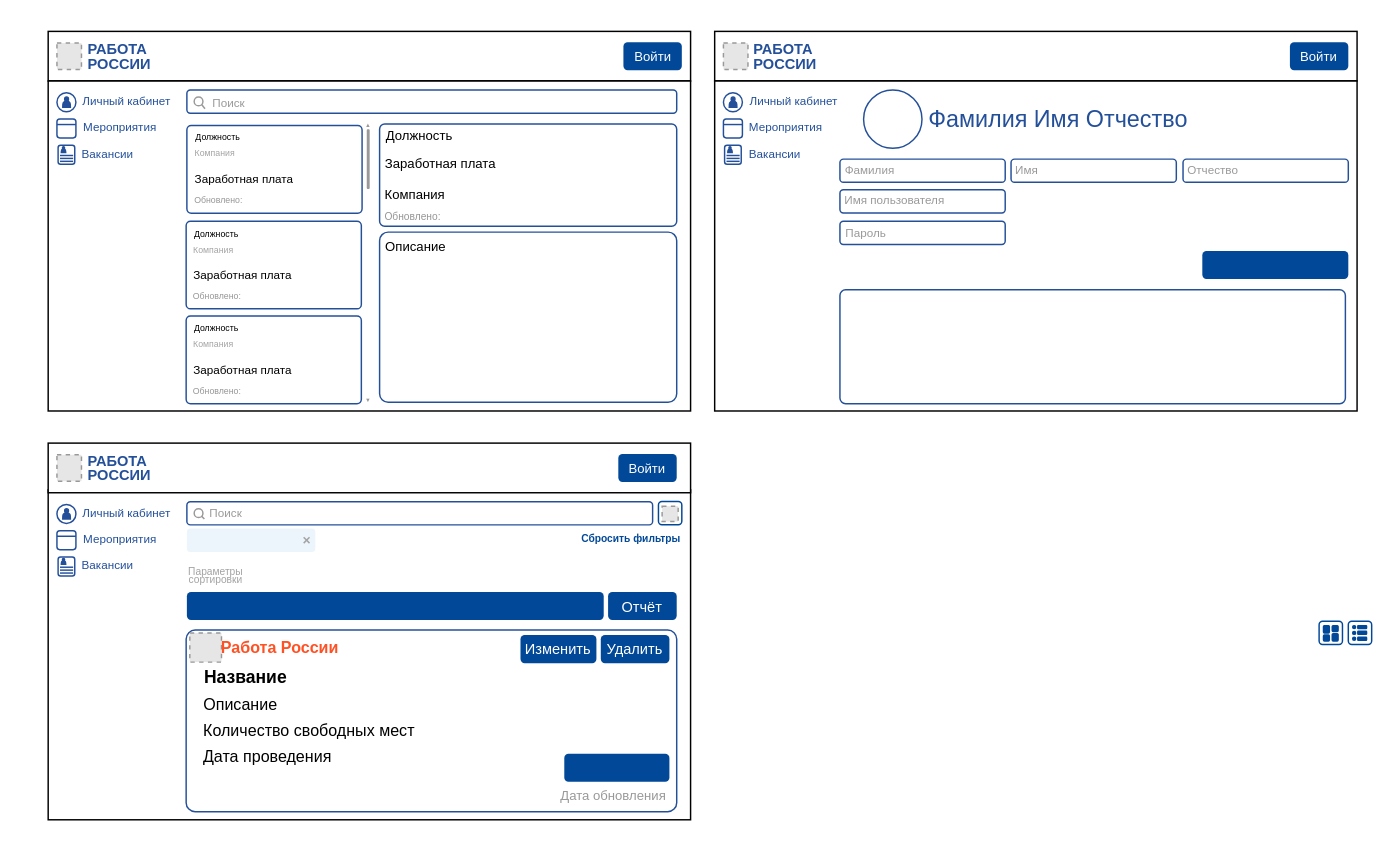
This 1397x845 diagram has some shape labels left out. Grey dashed boxes stand in for pictures. Each missing label, with the box of its shape:
+ Создать: (186, 591, 603, 619)
Параметр фильтрации: (186, 528, 315, 551)
Подать заявку: (564, 753, 669, 781)
Сохранить изменения: (1202, 250, 1348, 278)
Список поданных пользователем заявок: (838, 288, 1345, 404)
ФИ: (862, 88, 922, 148)
